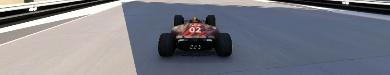Car: (157, 14, 232, 56)
obstacles-Borders: (0, 0, 119, 33)
